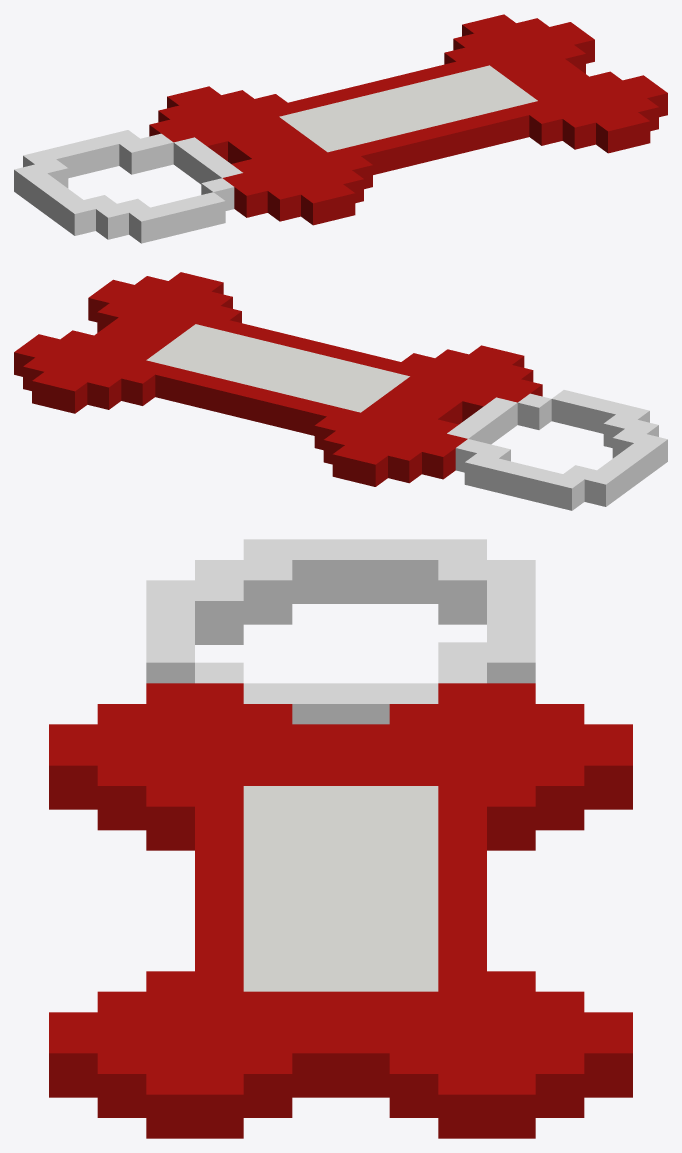
The model's file is pet_tag.glb.
The picture shows the model from 3 angles, top to bottom: view 1: azimuth 30°, elevation 25°; view 2: azimuth 150°, elevation 25°; view 3: azimuth 270°, elevation 25°; orthographic projection. The views are drawn at different scales.
Visible parts, largest first — view 1: pet_tag:compound; view 2: pet_tag:compound; view 3: pet_tag:compound.
Boxes of the visible parts, x1,y1,x2,y2 form: pet_tag:compound: (14,14,667,243); pet_tag:compound: (14,272,667,510); pet_tag:compound: (49,539,632,1138).
Size of the model in its own units: 0.054 by 0.002 by 0.024.
